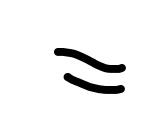eqv: (54, 47, 126, 94)
